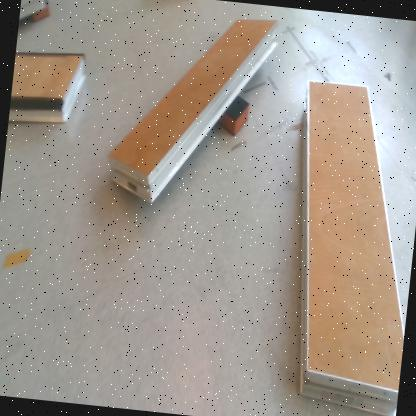Stairs: (301, 81, 405, 416), (109, 19, 279, 206), (9, 52, 85, 124), (20, 1, 46, 22)
